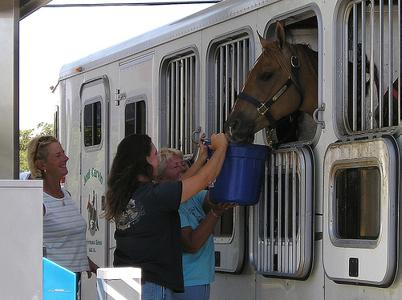person: (103, 134, 229, 300)
